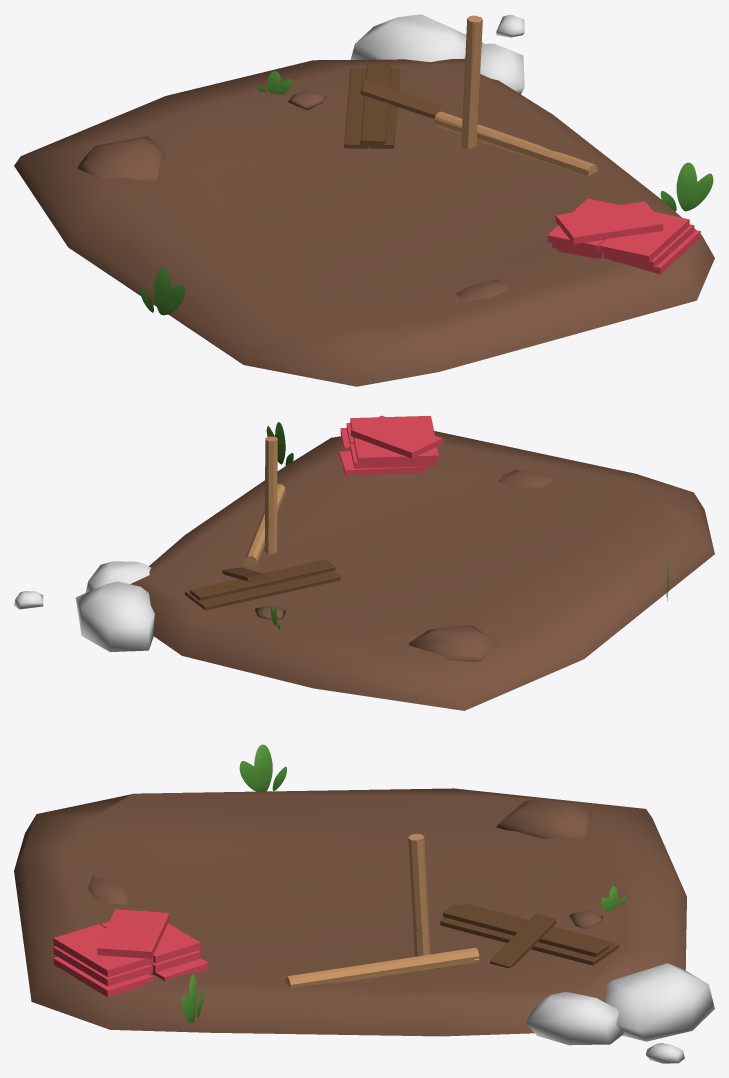
Rendered from SM_Construction_05.fbx.
3 renders of one model, top to bottom at view 1: azimuth 30°, elevation 25°; view 2: azimuth 150°, elevation 25°; view 3: azimuth 270°, elevation 25°, orthographic. The views are drawn at different scales.
Parts seen in each view (by area): view 1: Cube.469, Cube.470, Stone_01.017, Cube.477, Cylinder.035, Stone_01.014, Grass.014, Grass.015; view 2: Cube.469, Stone_01.017, Cube.470, Cube.477, Stone_01.014, Cylinder.035, Grass.014; view 3: Cube.469, Stone_01.017, Cube.470, Cube.477, Cylinder.035, Stone_01.014, Grass.015, Grass.014.
Part boxes in pixels (x1=…): Cube.469: x1=14, y1=59, x2=714, y2=386; Cube.470: x1=547, y1=198, x2=700, y2=274; Stone_01.017: x1=350, y1=14, x2=524, y2=94; Cube.477: x1=344, y1=64, x2=440, y2=148; Cylinder.035: x1=434, y1=15, x2=597, y2=176; Stone_01.014: x1=77, y1=90, x2=509, y2=301; Grass.014: x1=660, y1=162, x2=713, y2=211; Grass.015: x1=140, y1=267, x2=184, y2=315; Cube.469: x1=130, y1=431, x2=714, y2=710; Stone_01.017: x1=14, y1=561, x2=154, y2=651; Cube.470: x1=339, y1=415, x2=442, y2=476; Cube.477: x1=185, y1=559, x2=340, y2=609; Stone_01.014: x1=254, y1=470, x2=555, y2=661; Cylinder.035: x1=244, y1=436, x2=285, y2=567; Grass.014: x1=266, y1=422, x2=293, y2=465; Cube.469: x1=14, y1=788, x2=686, y2=1036; Stone_01.017: x1=526, y1=963, x2=714, y2=1063; Cube.470: x1=53, y1=909, x2=208, y2=997; Cube.477: x1=440, y1=903, x2=619, y2=968; Cylinder.035: x1=285, y1=834, x2=479, y2=988; Stone_01.014: x1=88, y1=799, x2=602, y2=929; Grass.015: x1=239, y1=744, x2=286, y2=791; Grass.014: x1=182, y1=974, x2=203, y2=1022.
Size of the model in its own units: 16.37 by 4.15 by 17.33.
